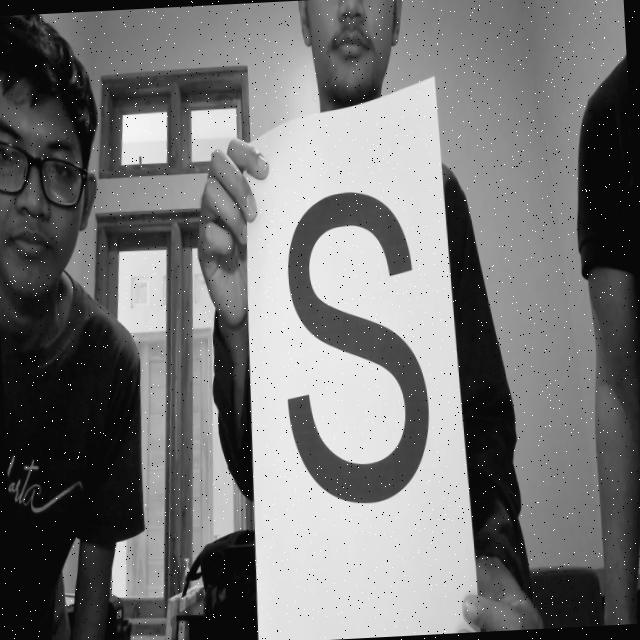s: (258, 181, 436, 537)
